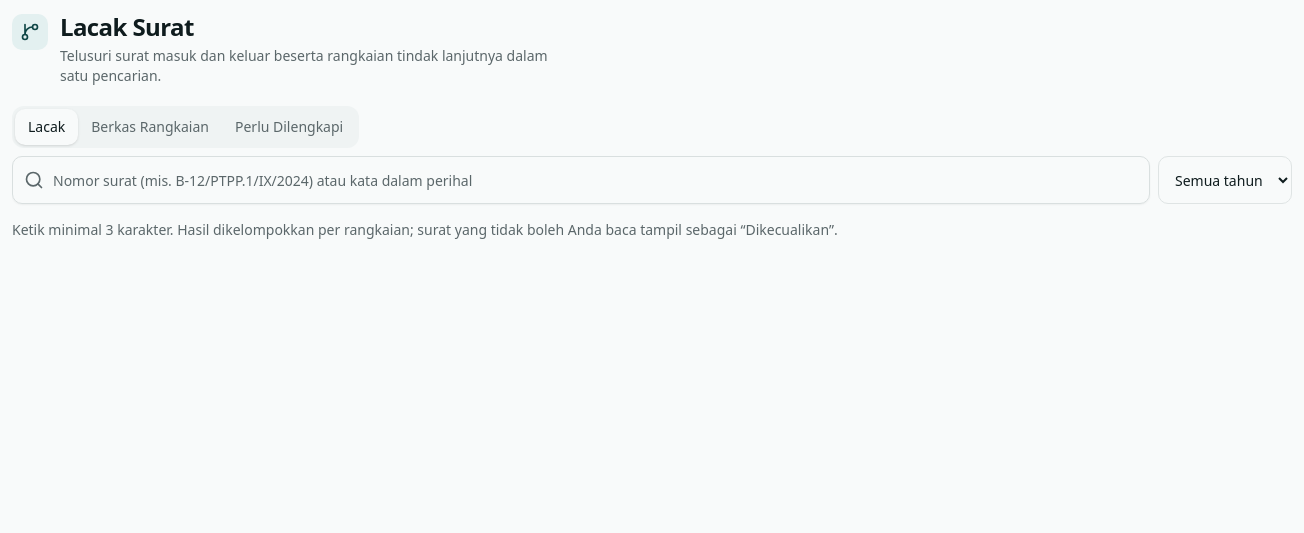
Test: Halaman Lacak Surat › menampilkan petunjuk minimal 3 karakter, galat, dan Coba lagi
This screenshot has width=1304, height=533.
Replace the text in the search field named "Nomor surat atau perihal" with "ab" at (581, 180), box [12,156,1150,204]
Wait 1000 ms
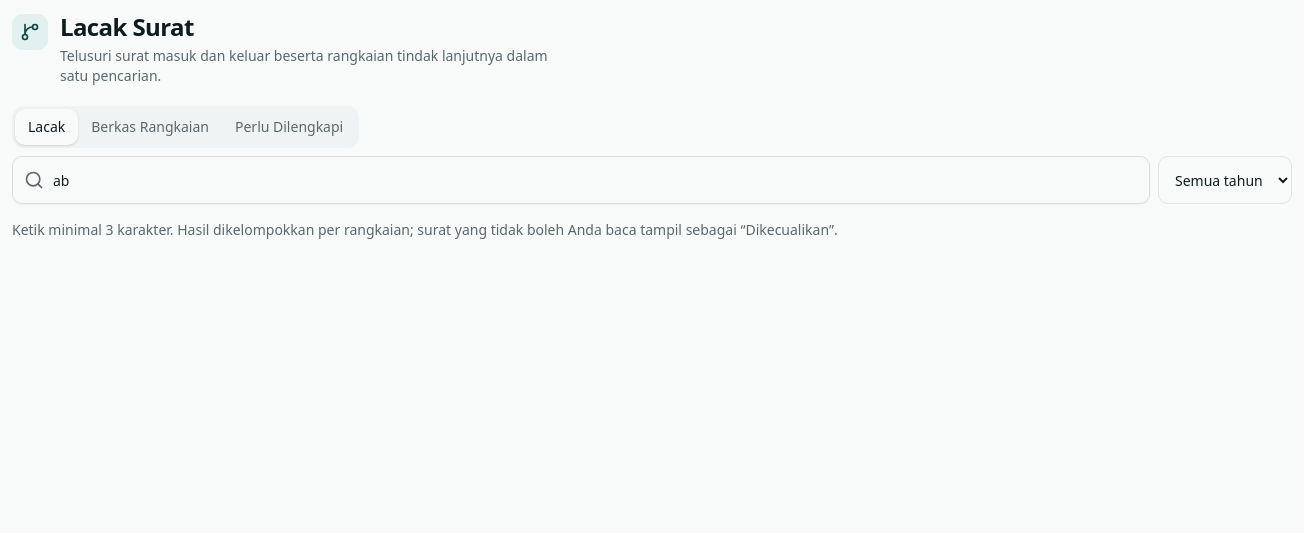
expect the text "Ketik minimal 3 karakter" is shown: met, box [12,220,838,239]
Replace the text in the search field named "Nomor surat atau perihal" with "rapat" at (581, 180), box [12,156,1150,204]
Wait 300 ms
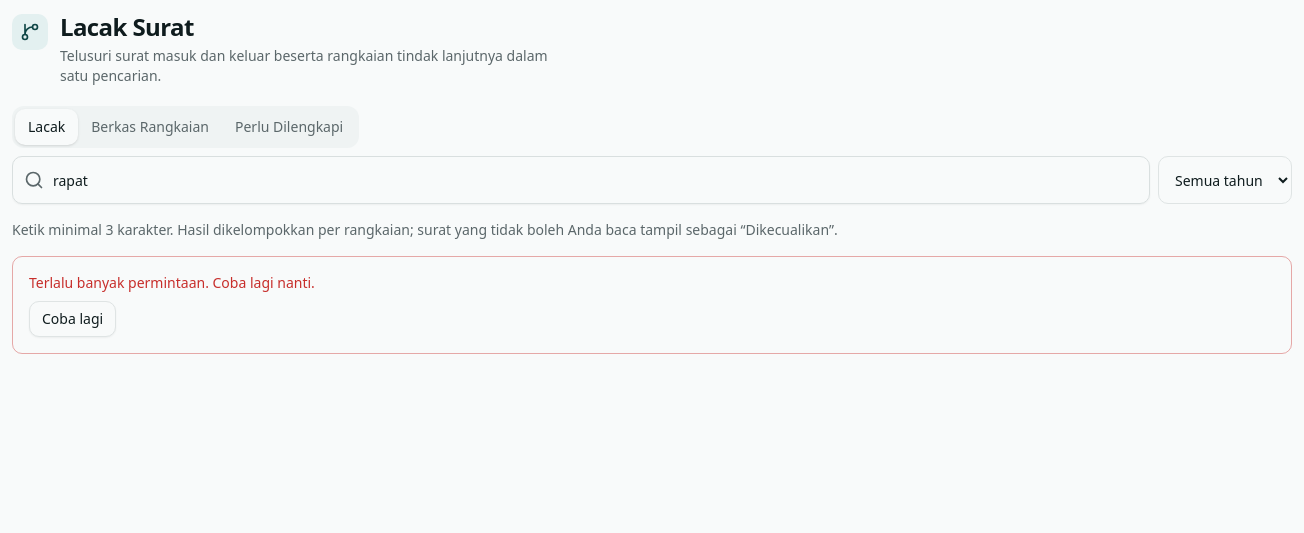
expect the message shows "Terlalu banyak permintaan. Coba lagi nanti.": met, box [29,273,315,292]
Click the button "Coba lagi" at (73, 319), box [29,301,116,337]
Wait 300 ms
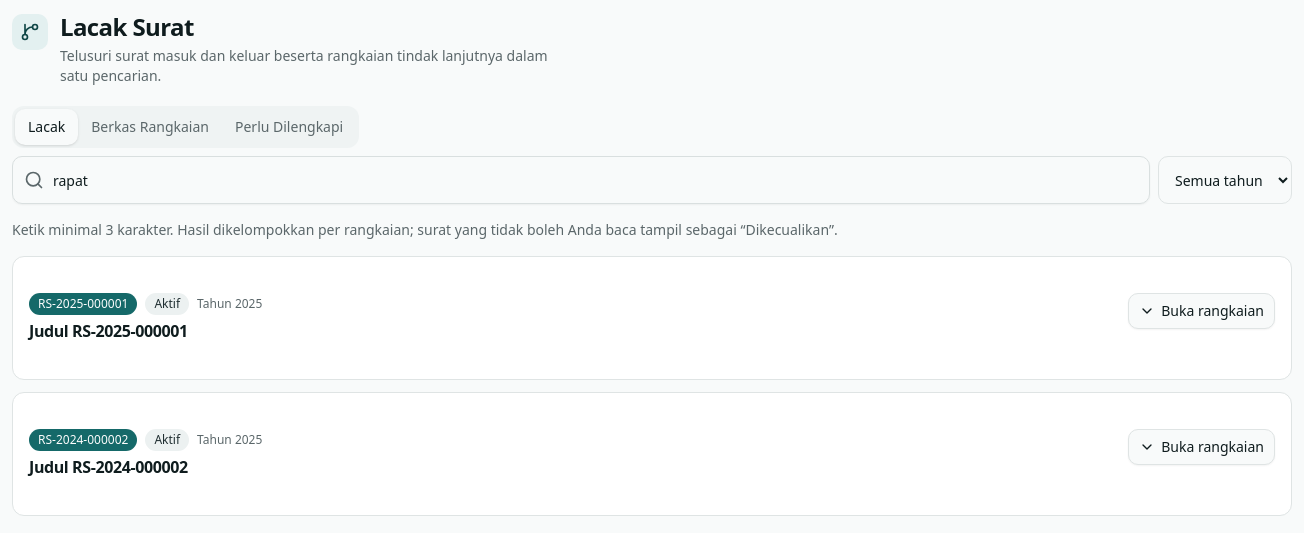
expect the heading "Judul RS-2025-000001" is shown: met, box [29,320,188,342]
